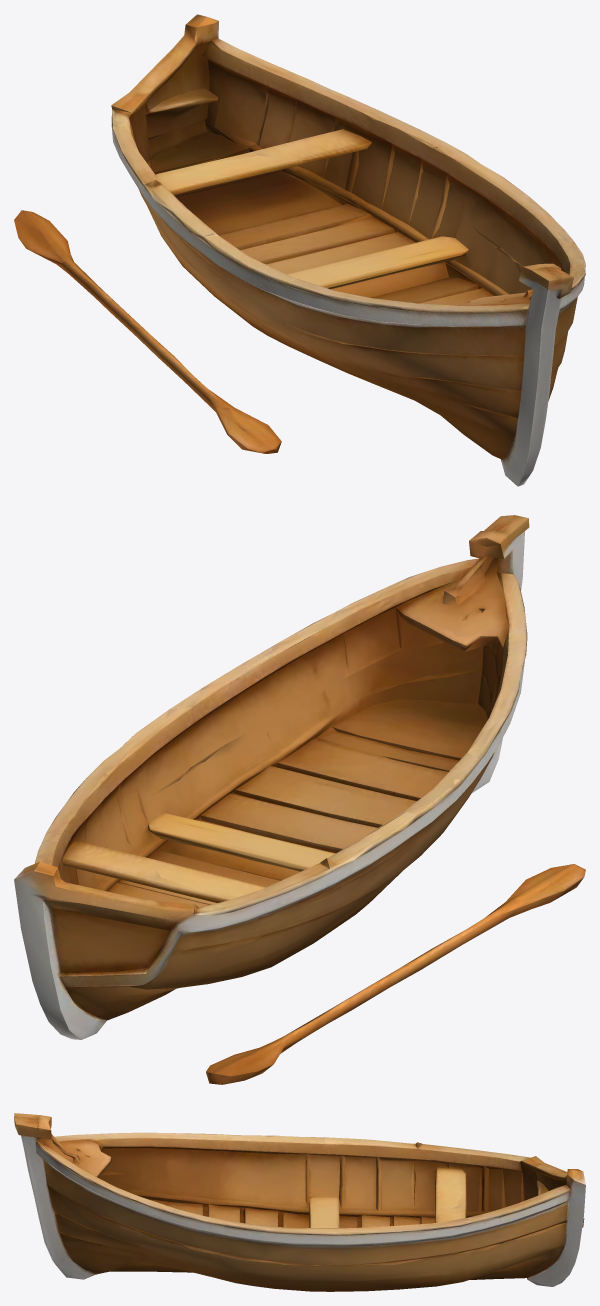
File: rowboat.glb
3 views of the same model, one above another, from view 1: azimuth 30°, elevation 25°; view 2: azimuth 150°, elevation 25°; view 3: azimuth 270°, elevation 25° (orthographic). The views are drawn at different scales.
Visible parts, largest first — view 1: model; view 2: model; view 3: model.
Part boxes in pixels (x1,y1,x2,y2): model: [14, 14, 585, 486]; model: [14, 515, 585, 1084]; model: [14, 1113, 585, 1291].
Size of the model in its own units: 0.9042 by 0.5886 by 1.9.
Materials: 1 (1 with a texture image).
